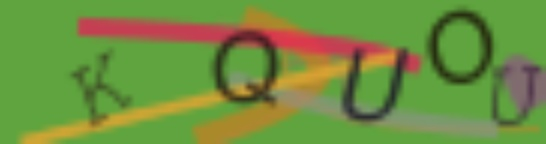K: (70, 48, 135, 129)
O: (427, 7, 495, 88)
Q: (209, 27, 284, 108)
U: (335, 44, 414, 126), (488, 65, 542, 130)
